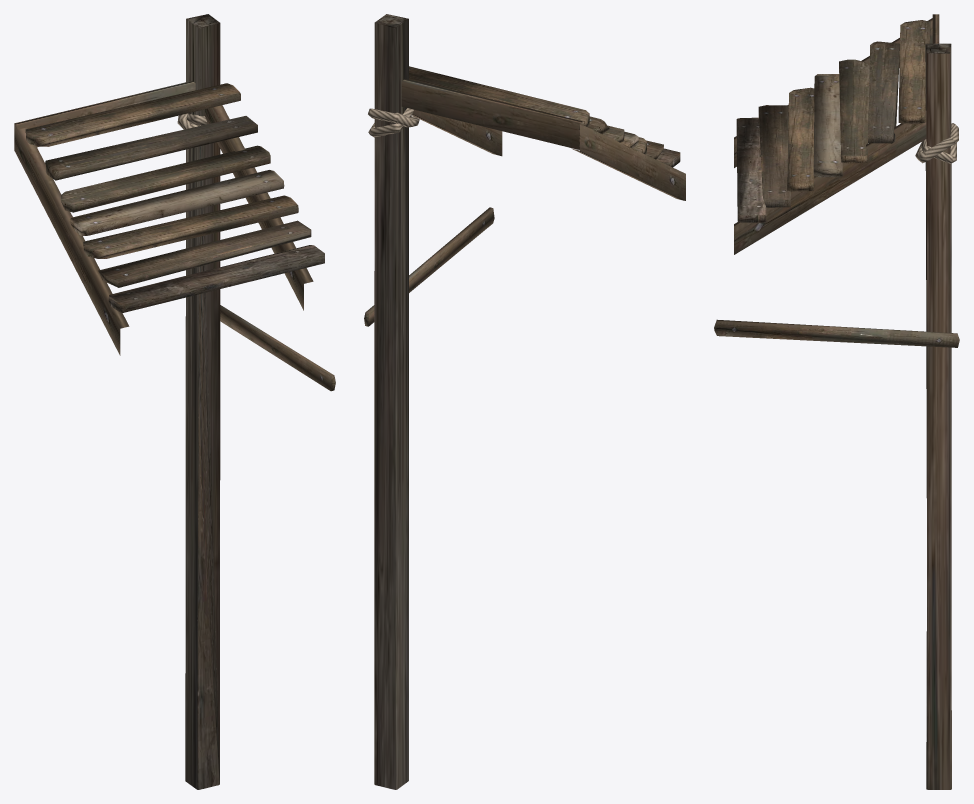
The model's file is wooden_ledge_stairs_100_mirror.glb.
3 renders of one model, left to right at view 1: azimuth 30°, elevation 25°; view 2: azimuth 150°, elevation 25°; view 3: azimuth 270°, elevation 25°, orthographic. The views are drawn at different scales.
Visible parts, largest first — view 1: wooden_ledge_stairs_100_mirror_LOD0; view 2: wooden_ledge_stairs_100_mirror_LOD0; view 3: wooden_ledge_stairs_100_mirror_LOD0.
Boxes of the visible parts, bbox=[...] form: wooden_ledge_stairs_100_mirror_LOD0: bbox=[14, 14, 335, 789]; wooden_ledge_stairs_100_mirror_LOD0: bbox=[364, 14, 685, 789]; wooden_ledge_stairs_100_mirror_LOD0: bbox=[714, 14, 959, 789].
Bounding box in the file's own units: 1.71 × 5.94 × 1.8.
Materials: 2 (2 with a texture image).
